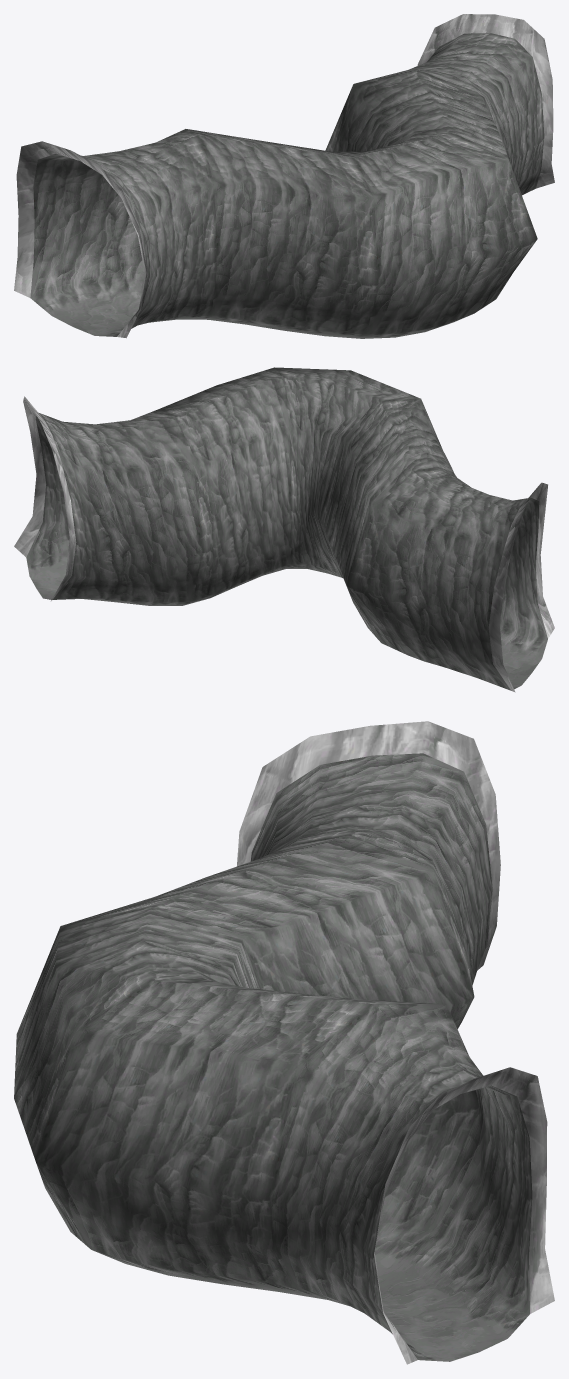
Rendered from SWORDLIGHT20_PS-AREA03_19.fbx.
The picture shows the model from 3 angles, top to bottom: view 1: azimuth 30°, elevation 25°; view 2: azimuth 150°, elevation 25°; view 3: azimuth 270°, elevation 25°; orthographic projection. The views are drawn at different scales.
Visible parts, largest first — view 1: SWORDLIGHT20_PS-AREA03_19; view 2: SWORDLIGHT20_PS-AREA03_19; view 3: SWORDLIGHT20_PS-AREA03_19.
Part boxes in pixels (x1,y1,x2,y2): SWORDLIGHT20_PS-AREA03_19: (14, 14, 554, 338); SWORDLIGHT20_PS-AREA03_19: (14, 367, 554, 692); SWORDLIGHT20_PS-AREA03_19: (14, 721, 554, 1364).
Bounding box in the file's own units: 230773 × 79981 × 132328.
Materials: 4 (4 with a texture image).
